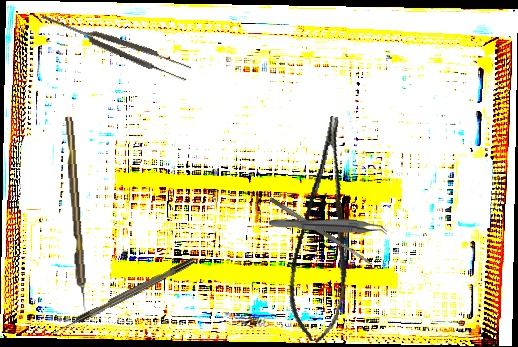Hook Surgical: (52, 257, 196, 336), (64, 116, 88, 312)
Micro Scissor: (276, 114, 382, 346)
Spatula Surgical: (268, 195, 375, 269)
Tissue Forceps: (38, 6, 193, 84), (268, 217, 388, 237)
